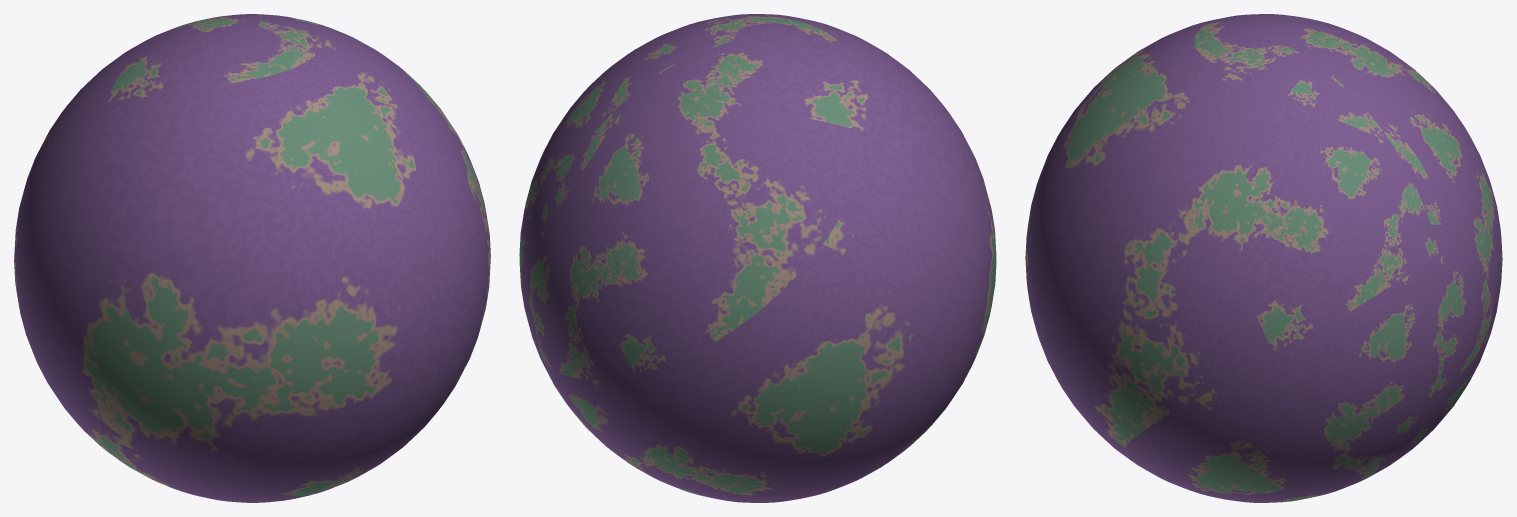
File: ringPlanet.glb
3 renders of one model, left to right at view 1: azimuth 30°, elevation 25°; view 2: azimuth 150°, elevation 25°; view 3: azimuth 270°, elevation 25°, orthographic.
Parts seen in each view (by area): view 1: Planet; view 2: Planet; view 3: Planet.
Boxes of the visible parts, x1,y1,x2,y2 form: Planet: (14, 14, 490, 502); Planet: (519, 14, 996, 502); Planet: (1025, 14, 1502, 502).
Bounding box in the file's own units: 2.44 × 2.52 × 2.44.
1 material, 1 textured.
